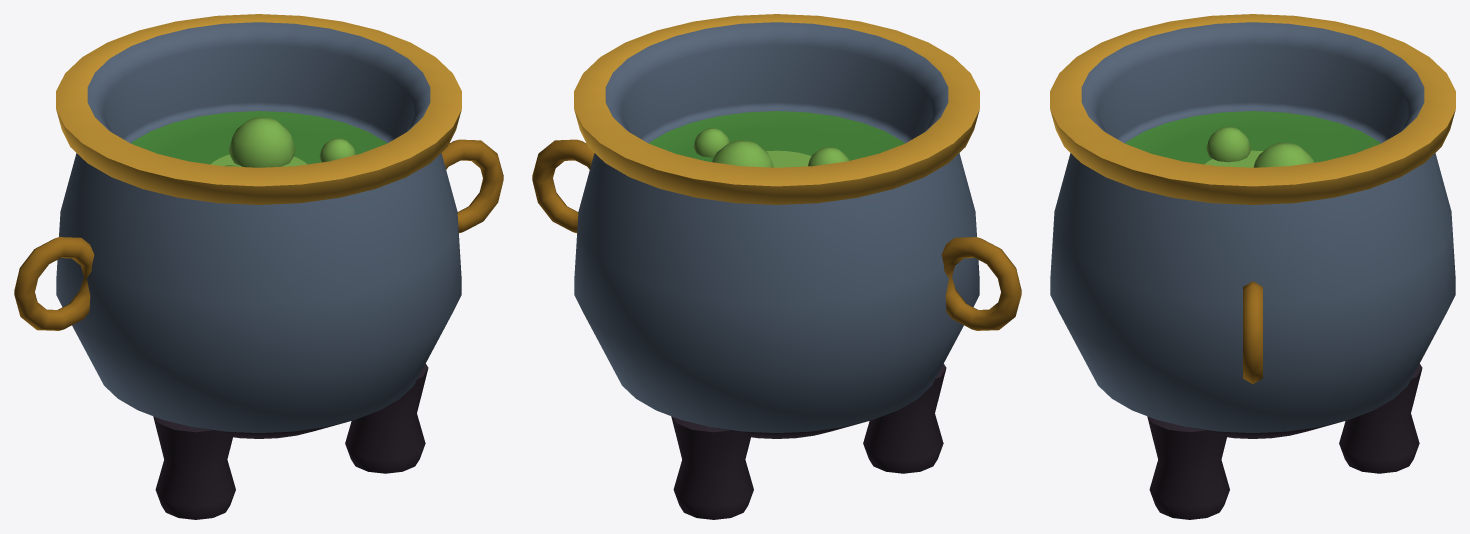
Rendered from Cauldron_04.glb.
3 views of the same model, side by side, from view 1: azimuth 30°, elevation 25°; view 2: azimuth 150°, elevation 25°; view 3: azimuth 270°, elevation 25° (orthographic).
Parts seen in each view (by area): view 1: Cauldron_04; view 2: Cauldron_04; view 3: Cauldron_04.
Boxes of the visible parts, x1=… form: Cauldron_04: x1=14, y1=14, x2=503, y2=519; Cauldron_04: x1=532, y1=14, x2=1021, y2=519; Cauldron_04: x1=1050, y1=14, x2=1455, y2=519.
Size of the model in its own units: 3.92 by 2.79 by 2.81.
